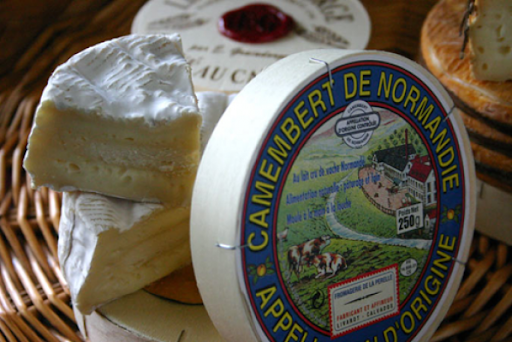camembert: (23, 30, 205, 209)
